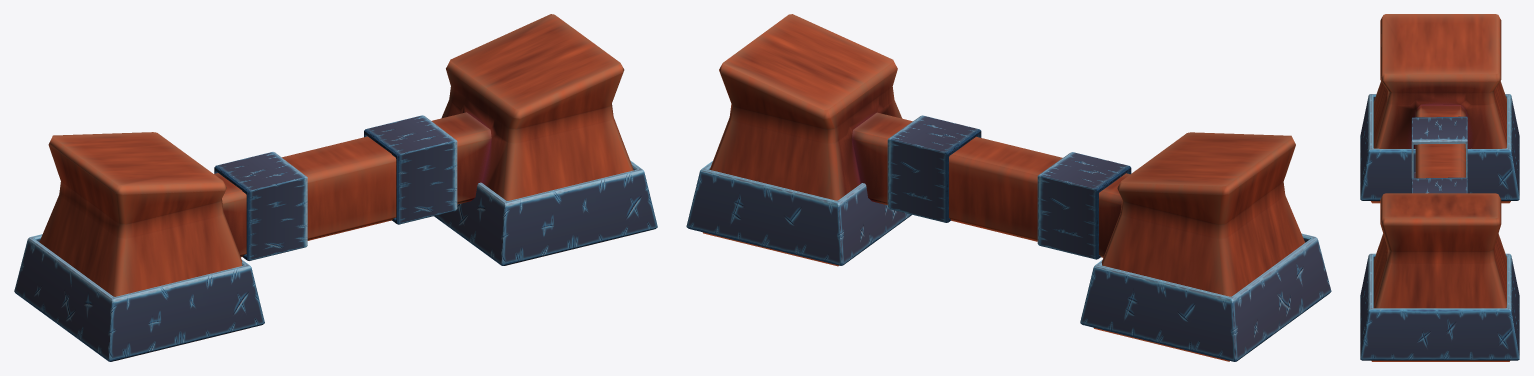
File: barrel_stand.fbx
The picture shows the model from 3 angles, left to right: view 1: azimuth 30°, elevation 25°; view 2: azimuth 150°, elevation 25°; view 3: azimuth 270°, elevation 25°; orthographic projection. The views are drawn at different scales.
Visible parts, largest first — view 1: l_leg.016, Cube.012, Cube.010, Cube.011; view 2: l_leg.016, Cube.012, Cube.010, Cube.011; view 3: l_leg.016, Cube.011, Cube.012, Cube.010.
Boxes of the visible parts, bbox=[...] form: l_leg.016: bbox=[39, 14, 633, 357]; Cube.012: bbox=[14, 234, 264, 361]; Cube.010: bbox=[214, 115, 457, 260]; Cube.011: bbox=[434, 160, 657, 265]; l_leg.016: bbox=[703, 14, 1305, 361]; Cube.012: bbox=[1080, 233, 1331, 361]; Cube.010: bbox=[887, 115, 1131, 259]; Cube.011: bbox=[686, 161, 911, 265]; l_leg.016: bbox=[1371, 14, 1510, 361]; Cube.011: bbox=[1360, 253, 1519, 360]; Cube.012: bbox=[1360, 94, 1519, 200]; Cube.010: bbox=[1411, 116, 1467, 193].
Bounding box in the file's own units: 647 × 188 × 195.
